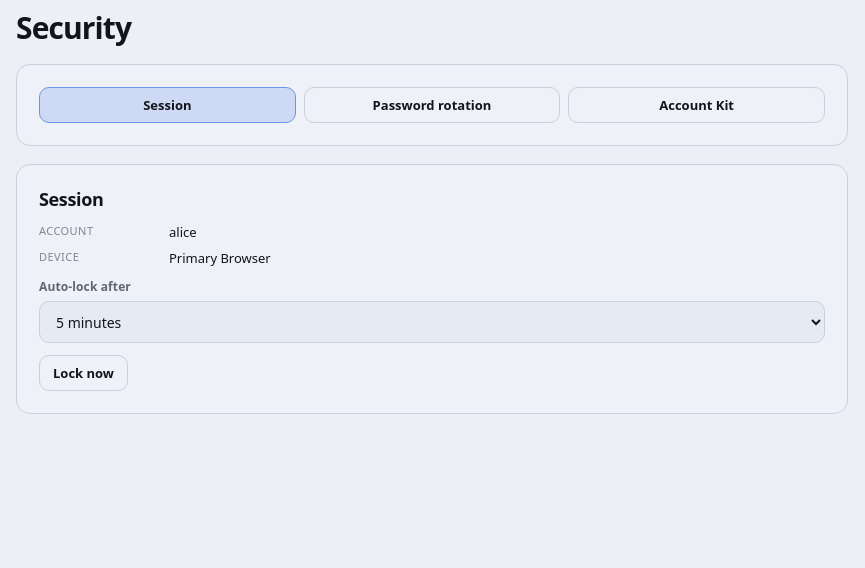
Scenario: SettingsPage › shows only one security subsection at a time through tabs
Expected: the text "Rotating password revokes older sessions and keeps trusted devices active." is not shown
Click the button "Password rotation" at (432, 105), box [304,87,560,123]
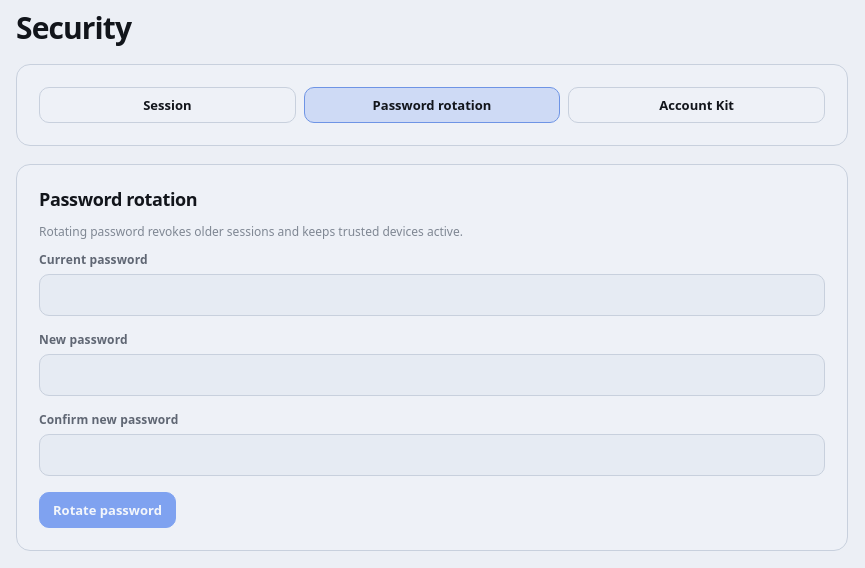
Expected: the text "Rotating password revokes older sessions and keeps trusted devices active." is shown, [39,223,463,240]
Expected: the text "Auto-lock after" is gone
